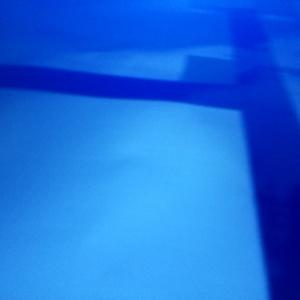top_left: (183, 57, 271, 105)
